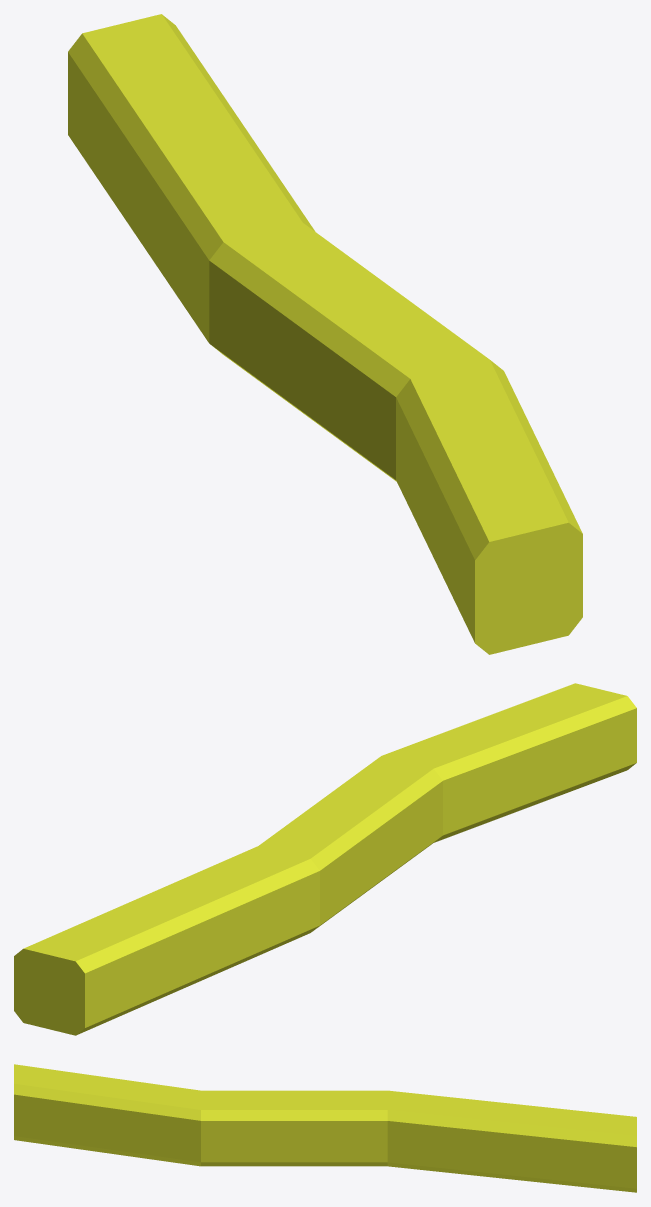
Rendered from French Fry 2.fbx.
3 views of the same model, one above another, from view 1: azimuth 30°, elevation 25°; view 2: azimuth 150°, elevation 25°; view 3: azimuth 270°, elevation 25° (orthographic). The views are drawn at different scales.
Visible parts, largest first — view 1: French Fry 2; view 2: French Fry 2; view 3: French Fry 2.
Boxes of the visible parts, box(x1,y1,x2,y2) form: French Fry 2: box(68, 14, 582, 654); French Fry 2: box(14, 683, 636, 1035); French Fry 2: box(14, 1064, 636, 1192).
Bounding box in the file's own units: 30 × 10 × 100.
